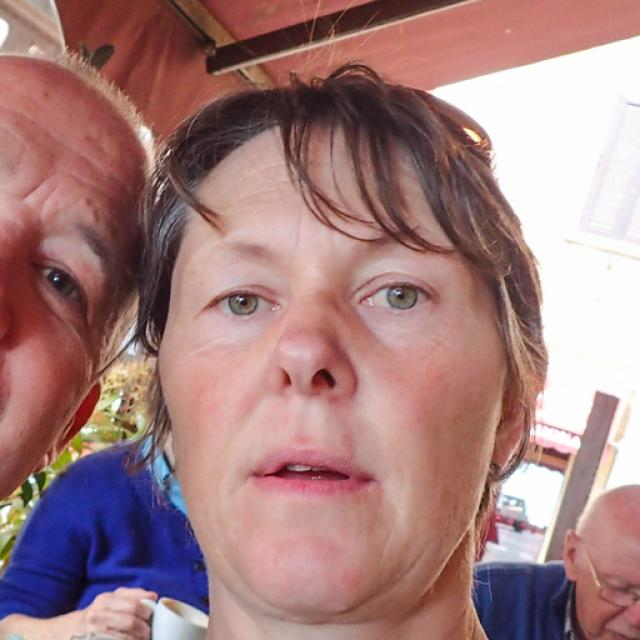Pigmentation: (283, 317, 350, 370), (298, 276, 348, 314)
